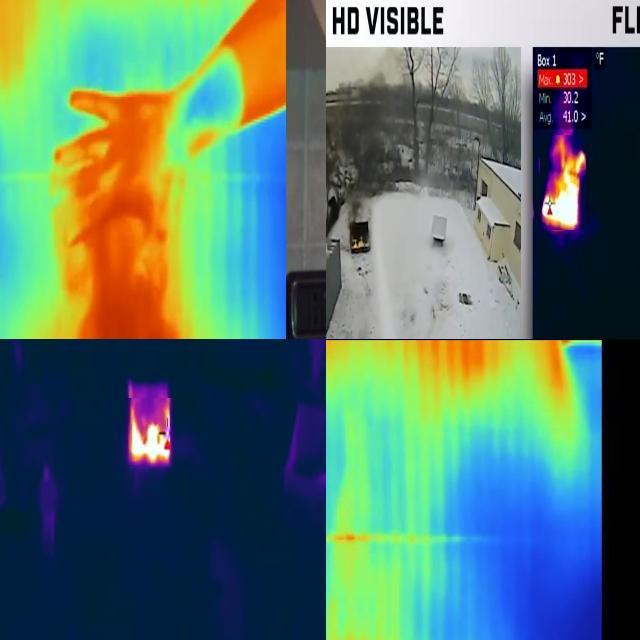fire: (541, 135, 587, 230), (126, 398, 173, 467), (351, 233, 371, 253)
